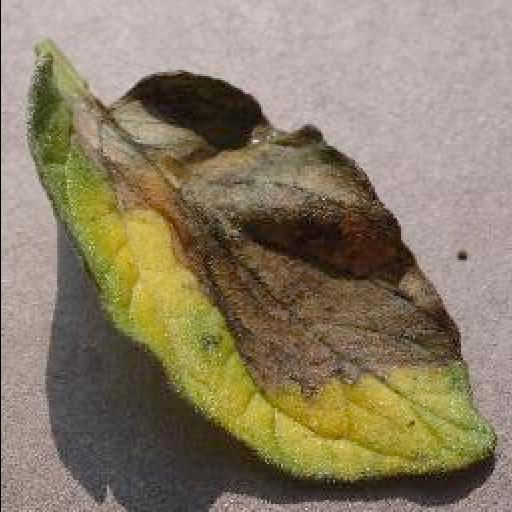disease_tomato: (28, 54, 496, 480)
